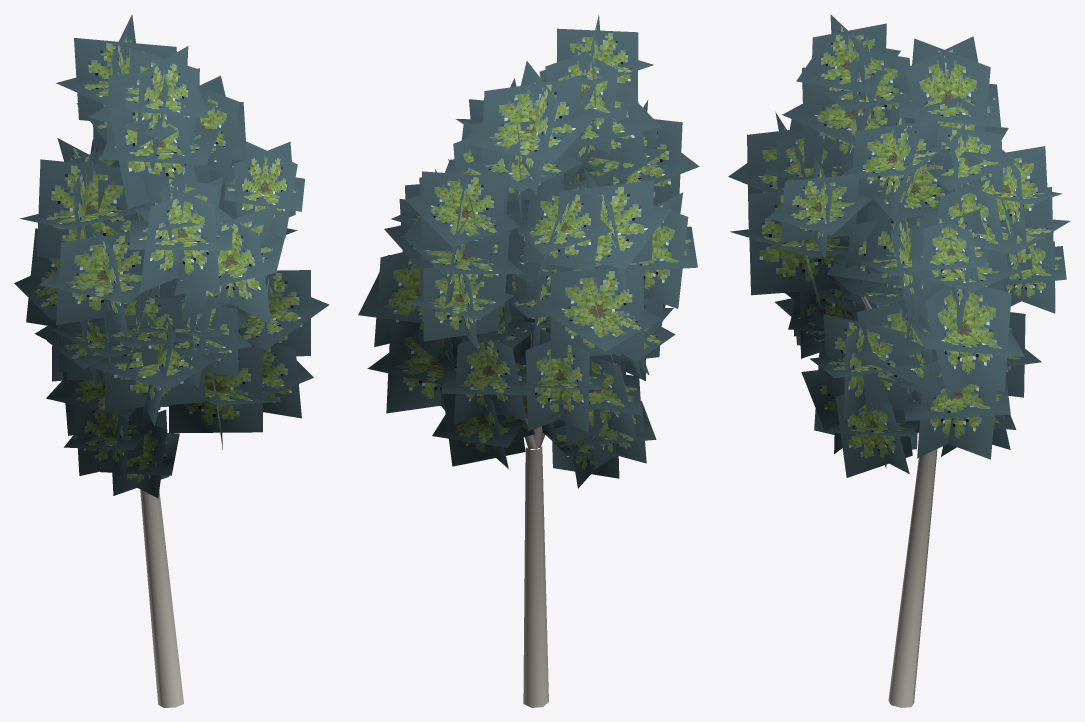
The model's file is tree-abedul.glb.
The picture shows the model from 3 angles, left to right: view 1: azimuth 30°, elevation 25°; view 2: azimuth 150°, elevation 25°; view 3: azimuth 270°, elevation 25°; orthographic projection. The views are drawn at different scales.
Parts seen in each view (by area): view 1: tree-abedul; view 2: tree-abedul; view 3: tree-abedul.
Boxes of the visible parts, x1=… form: tree-abedul: x1=14, y1=14, x2=329, y2=707; tree-abedul: x1=358, y1=15, x2=699, y2=707; tree-abedul: x1=728, y1=14, x2=1070, y2=707.
Size of the model in its own units: 7.06 by 15.8 by 7.47.
2 materials, 1 textured.
